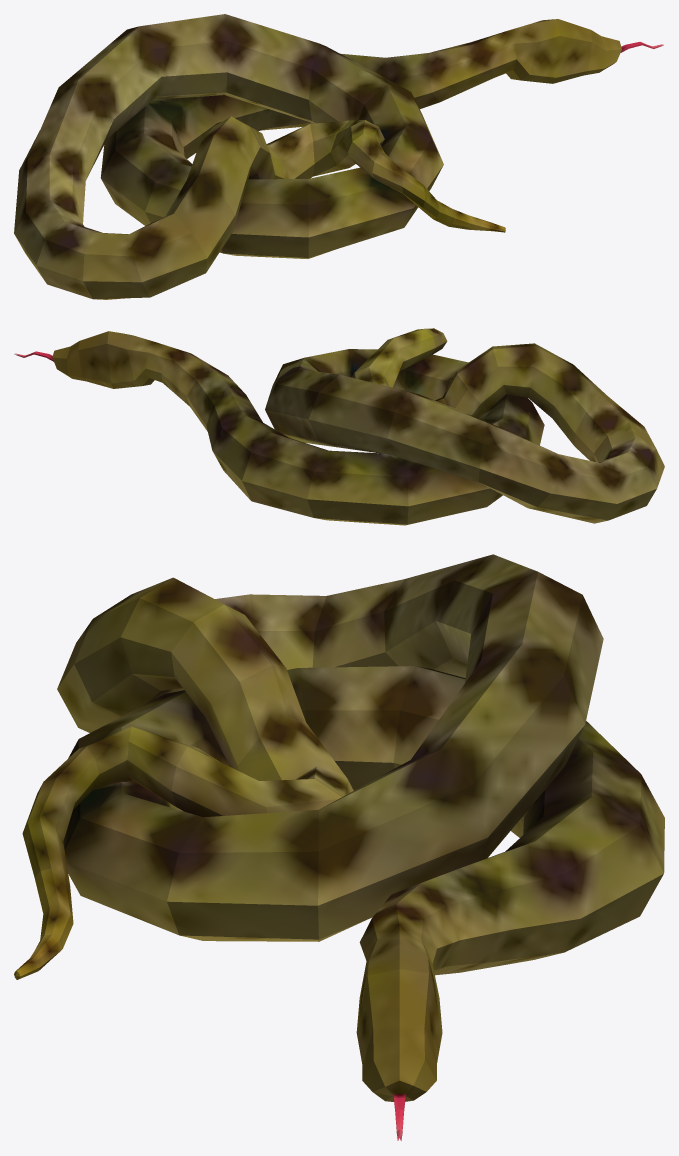
Rendered from other-anaconda-273.glb.
3 views of the same model, one above another, from view 1: azimuth 30°, elevation 25°; view 2: azimuth 150°, elevation 25°; view 3: azimuth 270°, elevation 25° (orthographic). The views are drawn at different scales.
Visible parts, largest first — view 1: Anaconda_mesh; view 2: Anaconda_mesh; view 3: Anaconda_mesh.
Part boxes in pixels (x1,y1,x2,y2): Anaconda_mesh: [14, 14, 663, 299]; Anaconda_mesh: [14, 328, 664, 525]; Anaconda_mesh: [14, 554, 664, 1140].
Size of the model in its own units: 19.65 by 4.45 by 9.84.
1 material, 1 textured.
